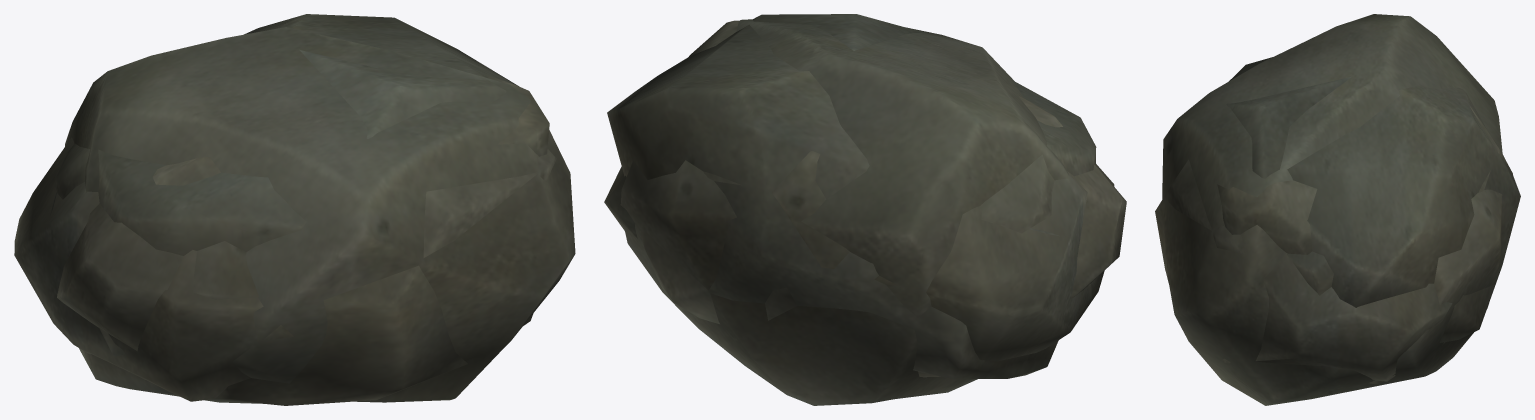
File: caveRockGroup.fbx
3 renders of one model, left to right at view 1: azimuth 30°, elevation 25°; view 2: azimuth 150°, elevation 25°; view 3: azimuth 270°, elevation 25°, orthographic. The views are drawn at different scales.
Visible parts, largest first — view 1: caveRock_3, caveRock_6, caveRock_4, caveRock_5; view 2: caveRock_3, caveRock_4, caveRock_5, caveRock_6; view 3: caveRock_3, caveRock_4, caveRock_6, caveRock_5, caveRock_1.
Boxes of the visible parts, x1,y1,x2,y2 form: caveRock_3: (65,27,575,402); caveRock_6: (57,149,556,405); caveRock_4: (54,14,518,403); caveRock_5: (14,74,549,401); caveRock_3: (620,19,1093,405); caveRock_4: (607,14,1096,379); caveRock_5: (689,20,1114,361); caveRock_6: (604,96,1126,377); caveRock_3: (1162,14,1502,405); caveRock_4: (1226,57,1520,342); caveRock_6: (1155,159,1452,381); caveRock_5: (1217,106,1512,384); caveRock_1: (1287,251,1333,295).
Size of the model in its own units: 253 by 171 by 189.
Materials: 1 (1 with a texture image).
